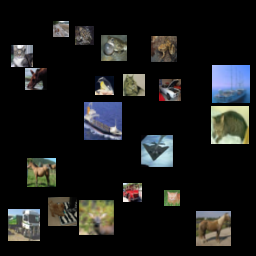airplane: (141, 135, 173, 167)
automobile: (159, 79, 181, 101)
bird: (95, 76, 114, 95)
cat: (211, 106, 249, 144), (123, 74, 145, 96), (11, 45, 33, 67), (164, 190, 180, 206)
deer: (79, 200, 114, 235), (25, 68, 47, 90)
dog: (48, 197, 77, 226), (53, 21, 69, 37)
frog: (151, 36, 177, 62), (101, 35, 127, 61), (75, 26, 94, 45)
ship: (84, 102, 122, 140), (212, 65, 250, 103)
